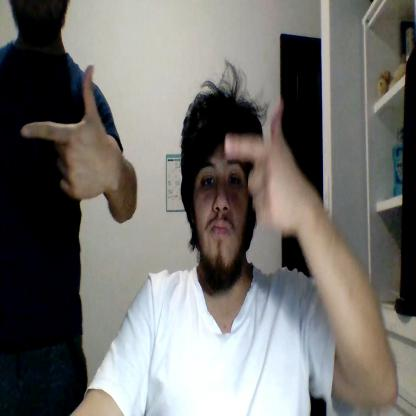G: (22, 64, 108, 199), (224, 104, 298, 232)
